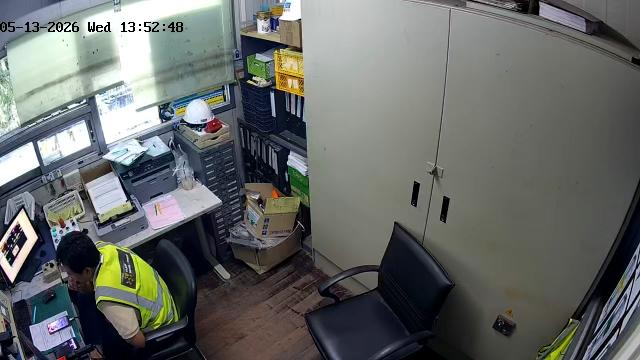Head: (56, 232, 100, 283)
People: (56, 232, 178, 357)
Phone: (52, 337, 80, 359), (47, 316, 69, 333)
